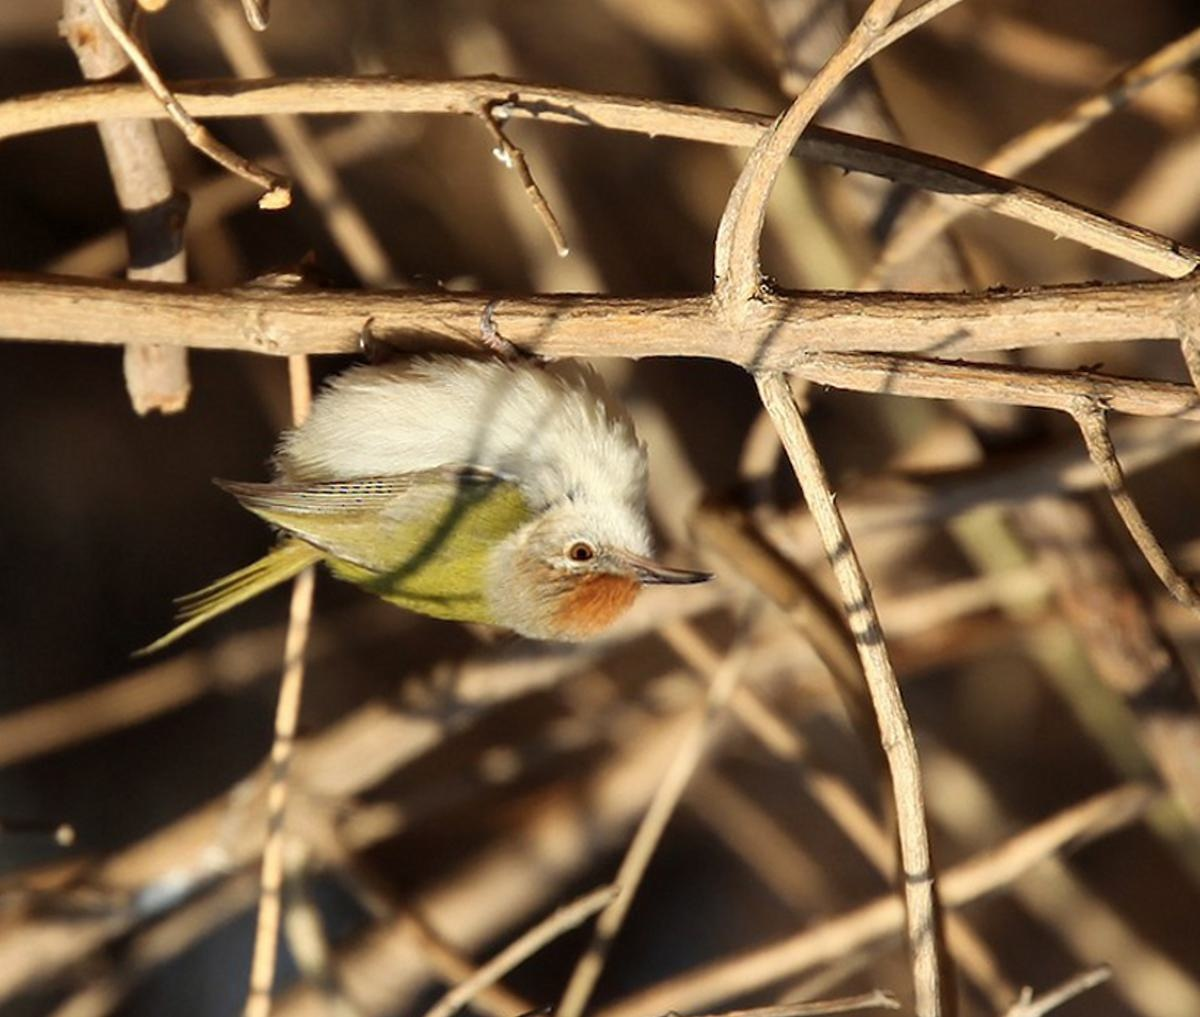tailorbird: (165, 295, 794, 699)
